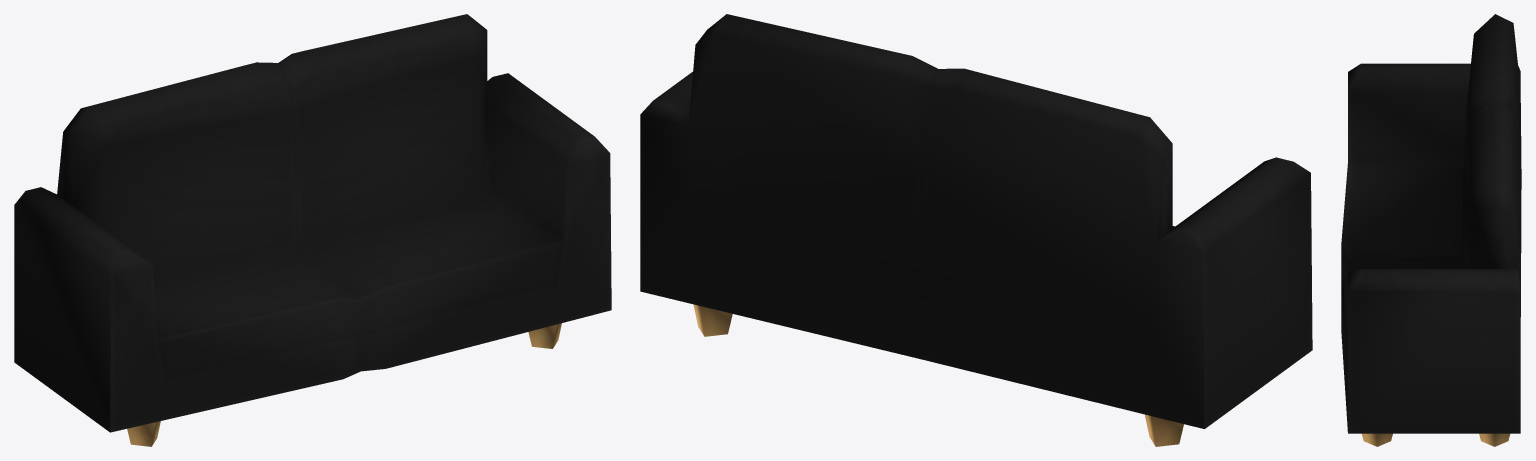
File: sb_obj_ModernCity071_sofa_b.fbx
The picture shows the model from 3 angles, left to right: view 1: azimuth 30°, elevation 25°; view 2: azimuth 150°, elevation 25°; view 3: azimuth 270°, elevation 25°; orthographic projection. The views are drawn at different scales.
Parts seen in each view (by area): view 1: sb_obj_ModernCity071_sofa_b; view 2: sb_obj_ModernCity071_sofa_b; view 3: sb_obj_ModernCity071_sofa_b.
Boxes of the visible parts, x1,y1,x2,y2 form: sb_obj_ModernCity071_sofa_b: (14, 14, 611, 446); sb_obj_ModernCity071_sofa_b: (640, 14, 1312, 446); sb_obj_ModernCity071_sofa_b: (1341, 14, 1521, 446).
Bounding box in the file's own units: 1.6 × 0.877 × 0.5527.
Materials: 1 (1 with a texture image).
